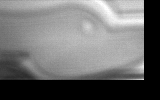cell: (78, 17, 98, 37)
